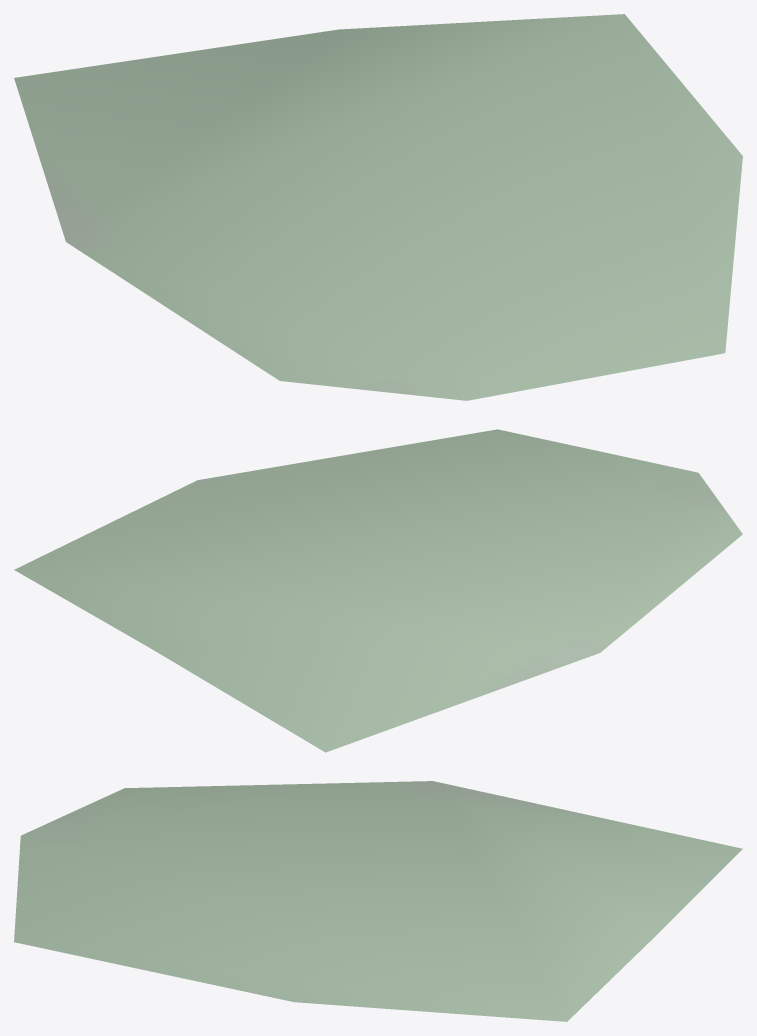
File: TROLLHOLE02_HOLECAP218.fbx
3 views of the same model, one above another, from view 1: azimuth 30°, elevation 25°; view 2: azimuth 150°, elevation 25°; view 3: azimuth 270°, elevation 25° (orthographic). The views are drawn at different scales.
Visible parts, largest first — view 1: TROLLHOLE02_HOLECAP218; view 2: TROLLHOLE02_HOLECAP218; view 3: TROLLHOLE02_HOLECAP218.
Boxes of the visible parts, x1,y1,x2,y2 form: TROLLHOLE02_HOLECAP218: [14, 14, 742, 400]; TROLLHOLE02_HOLECAP218: [14, 429, 742, 752]; TROLLHOLE02_HOLECAP218: [14, 781, 742, 1021].
Size of the model in its own units: 20976 by 740 by 26102.
Materials: 1 (1 with a texture image).
